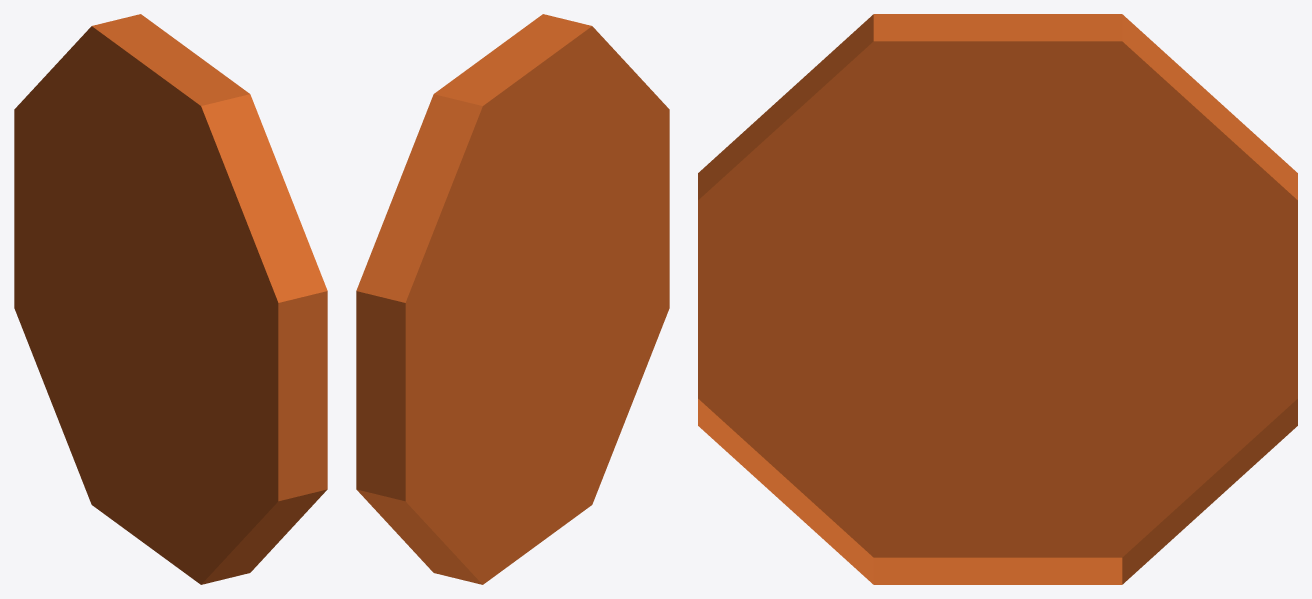
Rendered from BobbleArena-Collider.fbx.
3 renders of one model, left to right at view 1: azimuth 30°, elevation 25°; view 2: azimuth 150°, elevation 25°; view 3: azimuth 270°, elevation 25°, orthographic. The views are drawn at different scales.
Parts seen in each view (by area): view 1: Inner Octagon; view 2: Inner Octagon; view 3: Inner Octagon.
Part boxes in pixels (x1,y1,x2,y2): Inner Octagon: (14, 14, 327, 584); Inner Octagon: (356, 14, 669, 584); Inner Octagon: (698, 14, 1297, 584).
Bounding box in the file's own units: 690 × 6412 × 6412.
